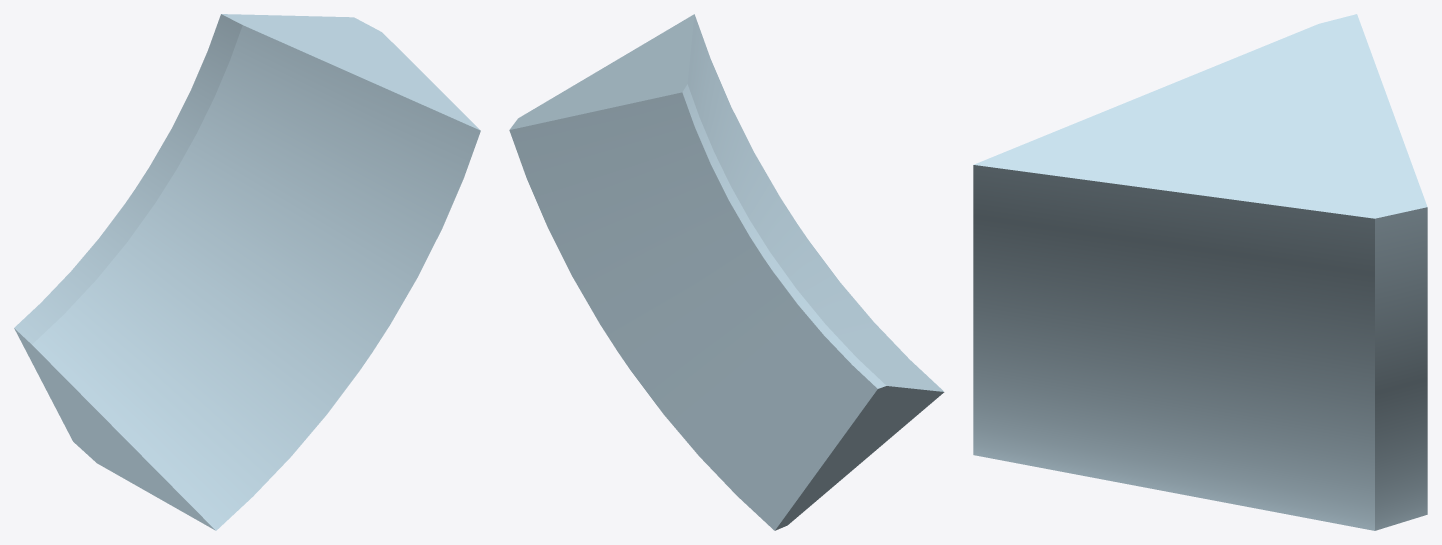
The model's file is Sub_4_Cell_3_3.gltf.
3 renders of one model, left to right at view 1: azimuth 30°, elevation 25°; view 2: azimuth 150°, elevation 25°; view 3: azimuth 270°, elevation 25°, orthographic. The views are drawn at different scales.
Visible parts, largest first — view 1: Sub_4_Cell_3_3; view 2: Sub_4_Cell_3_3; view 3: Sub_4_Cell_3_3.
Boxes of the visible parts, x1=… form: Sub_4_Cell_3_3: x1=14, y1=14, x2=480, y2=530; Sub_4_Cell_3_3: x1=509, y1=14, x2=944, y2=530; Sub_4_Cell_3_3: x1=973, y1=14, x2=1427, y2=530.
Bounding box in the file's own units: 0.0788 × 0.0855 × 0.0589.
